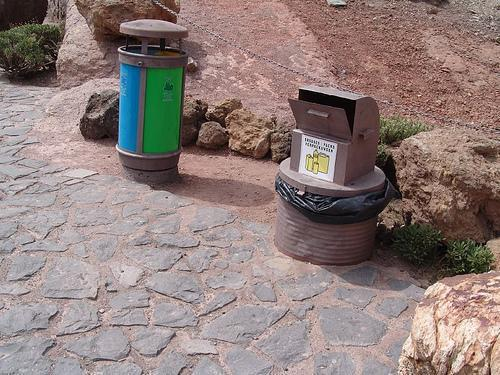Bote de Basura: (275, 80, 388, 265), (113, 21, 200, 174)
